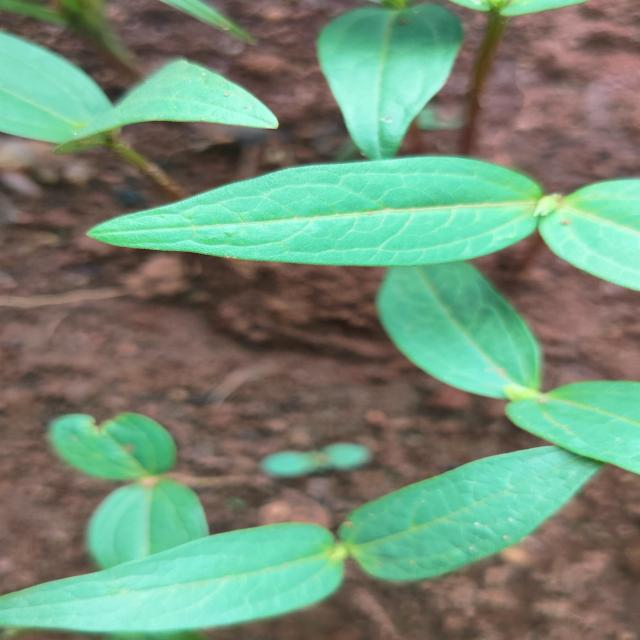Black gram_healthy: (82, 157, 545, 266), (0, 520, 343, 635), (338, 445, 590, 582), (366, 254, 542, 397), (315, 2, 468, 158)
